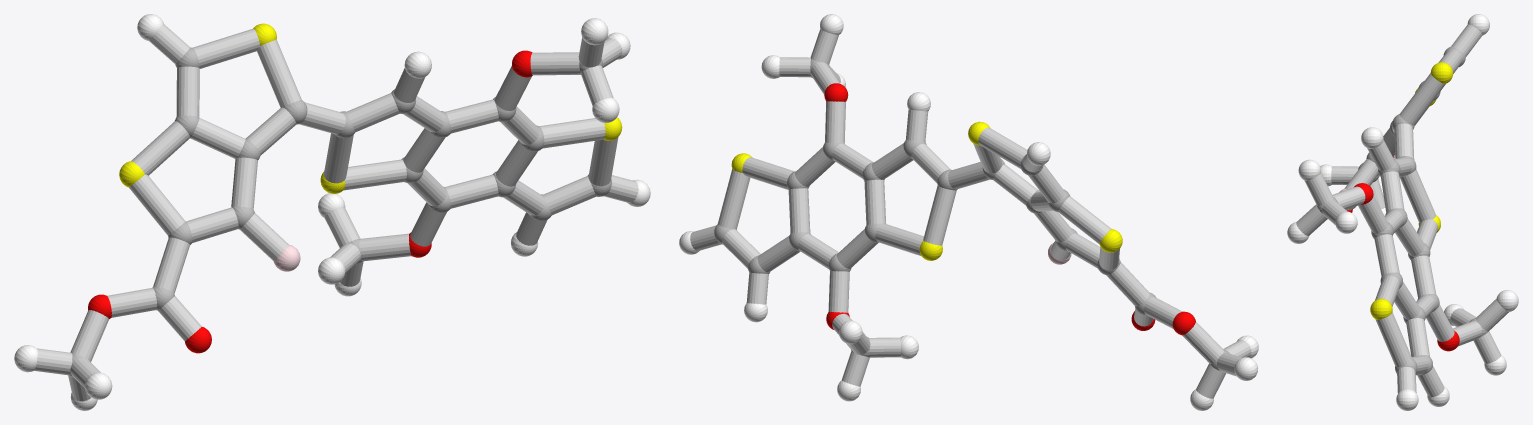
File: color.glb
The picture shows the model from 3 angles, left to right: view 1: azimuth 30°, elevation 25°; view 2: azimuth 150°, elevation 25°; view 3: azimuth 270°, elevation 25°; orthographic projection. The views are drawn at different scales.
Parts seen in each view (by area): view 1: grp15205, grp8689, grp1, grp13395, grp7241; view 2: grp15205, grp8689, grp1, grp7241, grp13395; view 3: grp15205, grp8689, grp1, grp7241, grp13395.
Part boxes in pixels (x1,y1,x2,y2): grp15205: (34,24,638,401); grp8689: (14,14,650,410); grp1: (69,47,611,377); grp13395: (88,50,532,353); grp7241: (119,23,622,193); grp15205: (690,29,1251,398); grp8689: (679,14,1258,410); grp1: (714,59,1229,370); grp7241: (731,121,1122,260); grp13395: (824,83,1195,335); grp15205: (1296,24,1508,397); grp8689: (1287,14,1518,410); grp1: (1317,46,1487,375); grp7241: (1370,62,1452,319); grp13395: (1347,156,1459,351).
Bounding box in the file's own units: 16.34 × 8.16 × 6.18.
